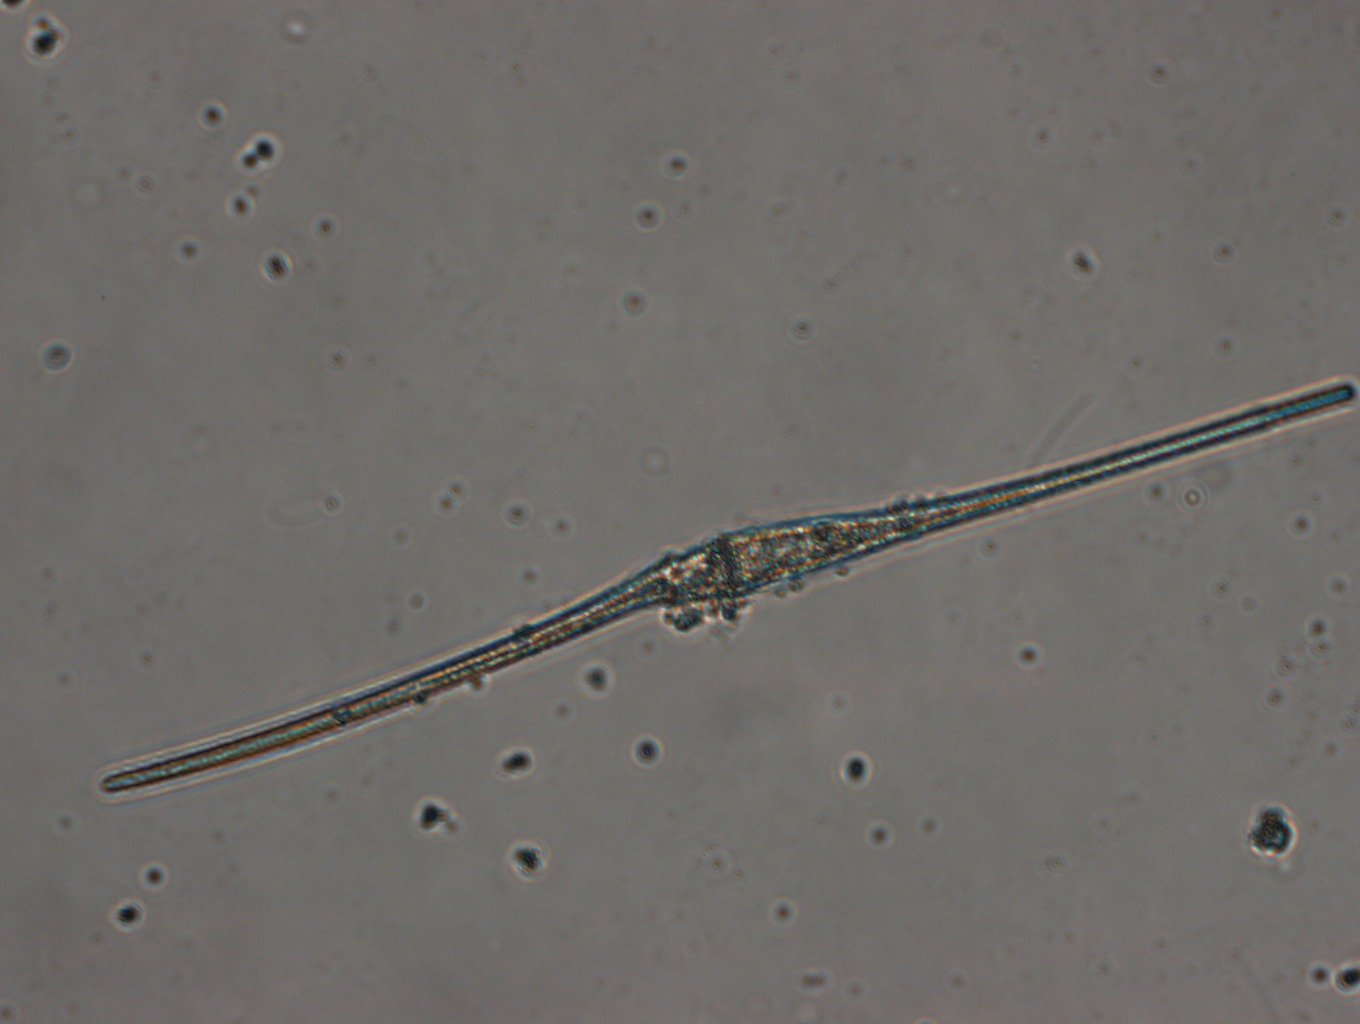ceratium fusus: (97, 378, 1360, 800)
